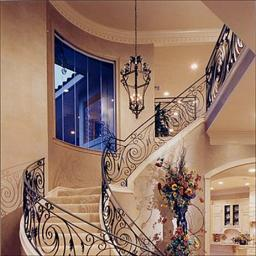Escaleras: (16, 73, 200, 253)
Ventana: (49, 27, 119, 152)
